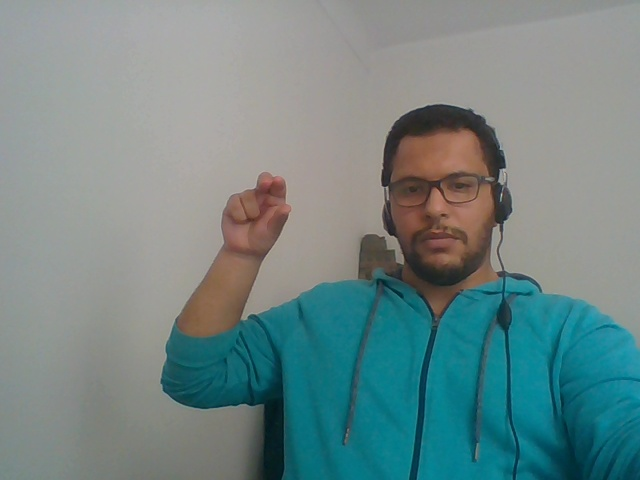no: (202, 154, 312, 316)
